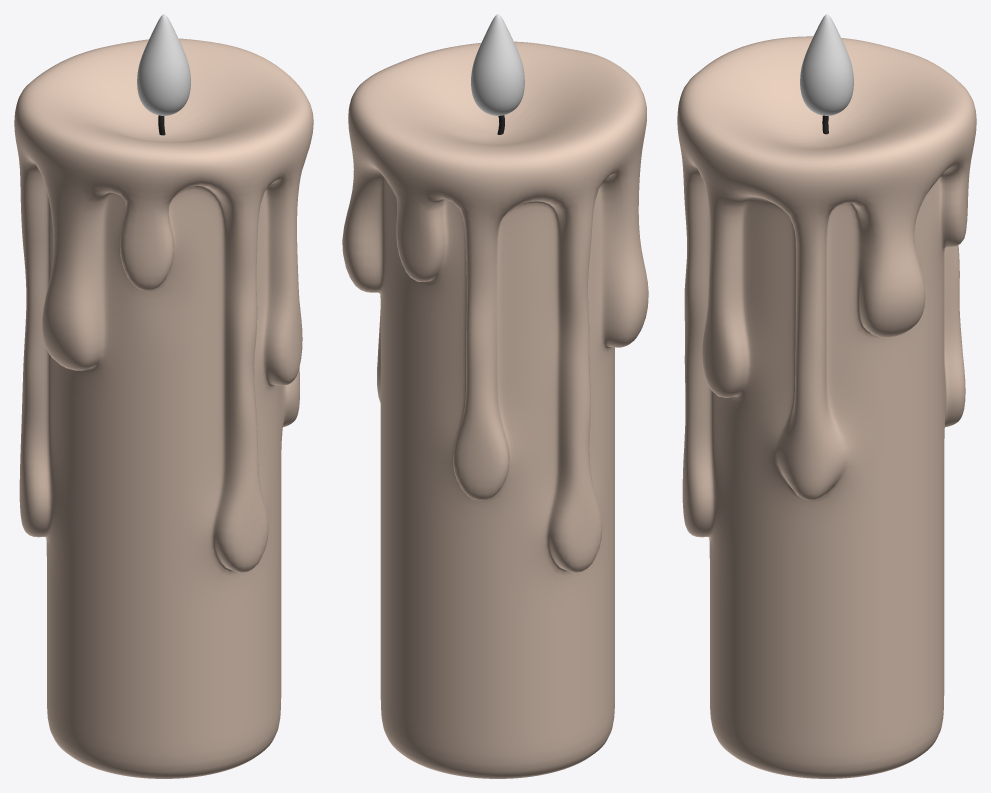
The model's file is Candle2.fbx.
3 views of the same model, side by side, from view 1: azimuth 30°, elevation 25°; view 2: azimuth 150°, elevation 25°; view 3: azimuth 270°, elevation 25° (orthographic).
Parts seen in each view (by area): view 1: Candle, Flame; view 2: Candle, Flame; view 3: Candle, Flame.
Boxes of the visible parts, x1=… form: Candle: x1=14, y1=38, x2=313, y2=778; Flame: x1=137, y1=14, x2=190, y2=115; Candle: x1=342, y1=41, x2=648, y2=778; Flame: x1=471, y1=14, x2=524, y2=115; Candle: x1=677, y1=36, x2=976, y2=778; Flame: x1=800, y1=14, x2=853, y2=115.
Size of the model in its own units: 63.44 by 168 by 63.19.
